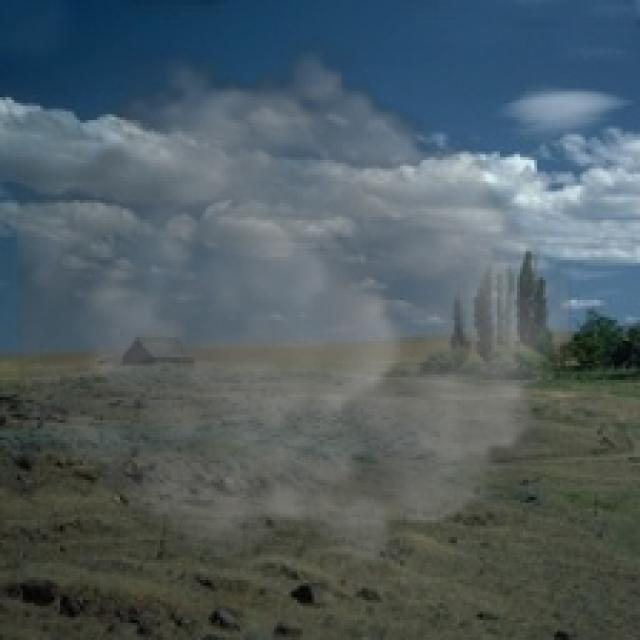smoke: (17, 31, 572, 592)
